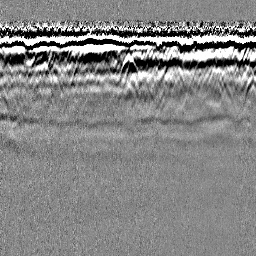cavity: (118, 51, 140, 80)
